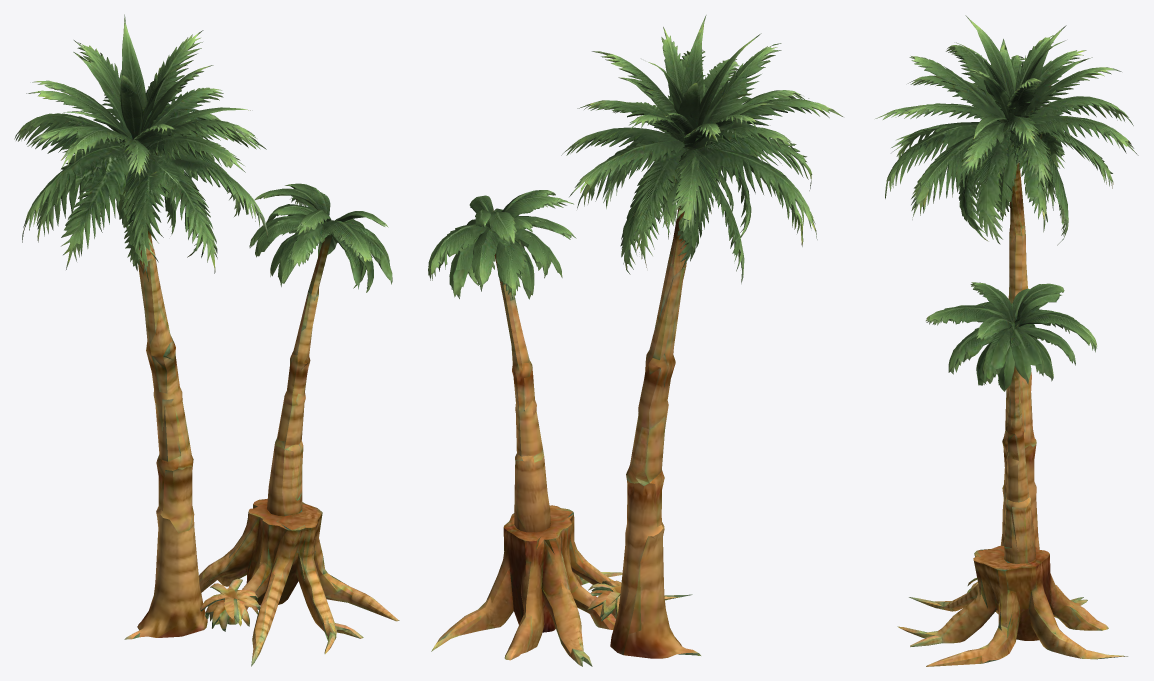
File: tree-palm-twin.glb
3 views of the same model, side by side, from view 1: azimuth 30°, elevation 25°; view 2: azimuth 150°, elevation 25°; view 3: azimuth 270°, elevation 25° (orthographic). The views are drawn at different scales.
Parts seen in each view (by area): view 1: Mesh_0; view 2: Mesh_0; view 3: Mesh_0.
Boxes of the visible parts, x1,y1,x2,y2 form: Mesh_0: [14, 14, 399, 666]; Mesh_0: [428, 15, 842, 666]; Mesh_0: [875, 15, 1138, 666].
Size of the model in its own units: 6.25 by 10 by 4.45.
Materials: 1 (1 with a texture image).
